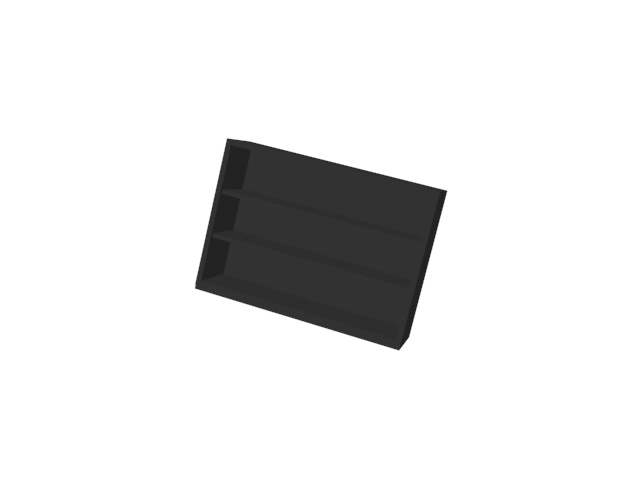bookcase: (193, 137, 448, 352)
